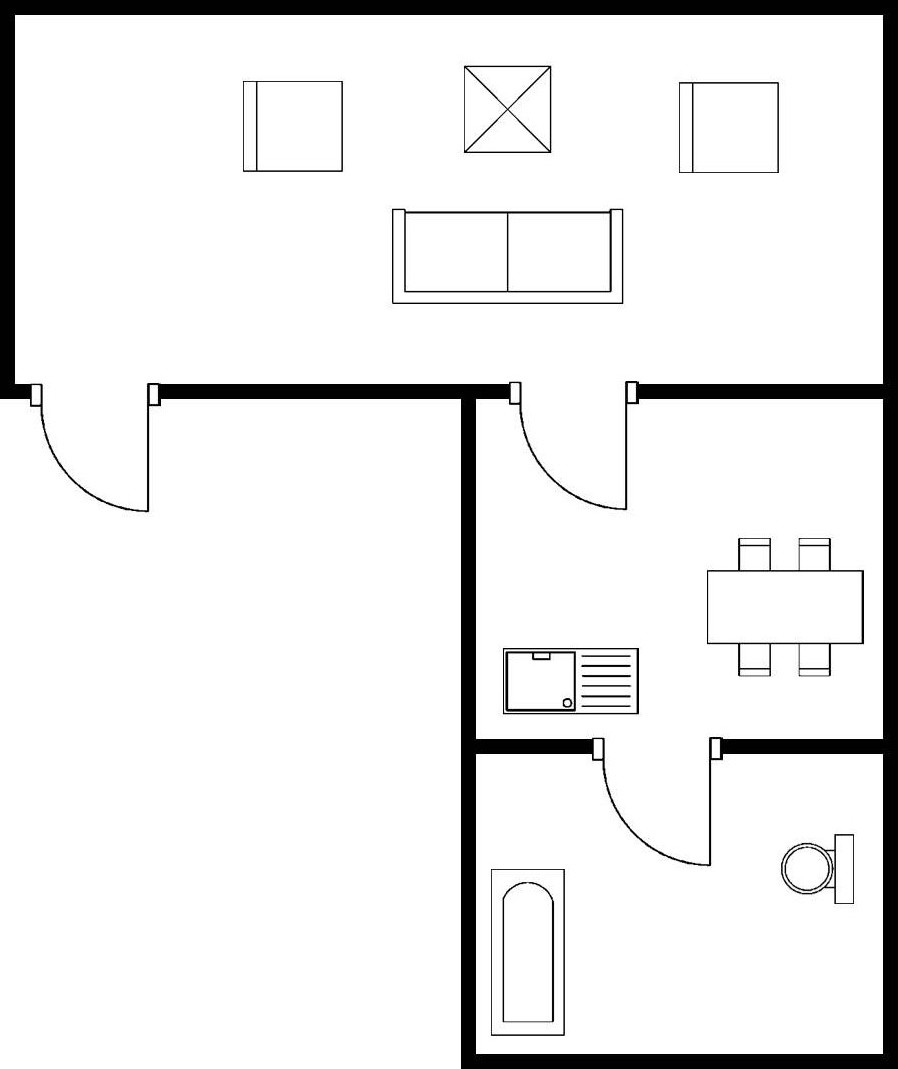coffee_table: (459, 61, 556, 158)
dining_table: (699, 533, 869, 685)
large_sink: (777, 827, 858, 910)
large_sofa: (387, 206, 629, 311)
sink: (498, 643, 643, 720)
small_sofa: (235, 75, 349, 180), (671, 77, 785, 180)
tub: (485, 864, 569, 1040)
